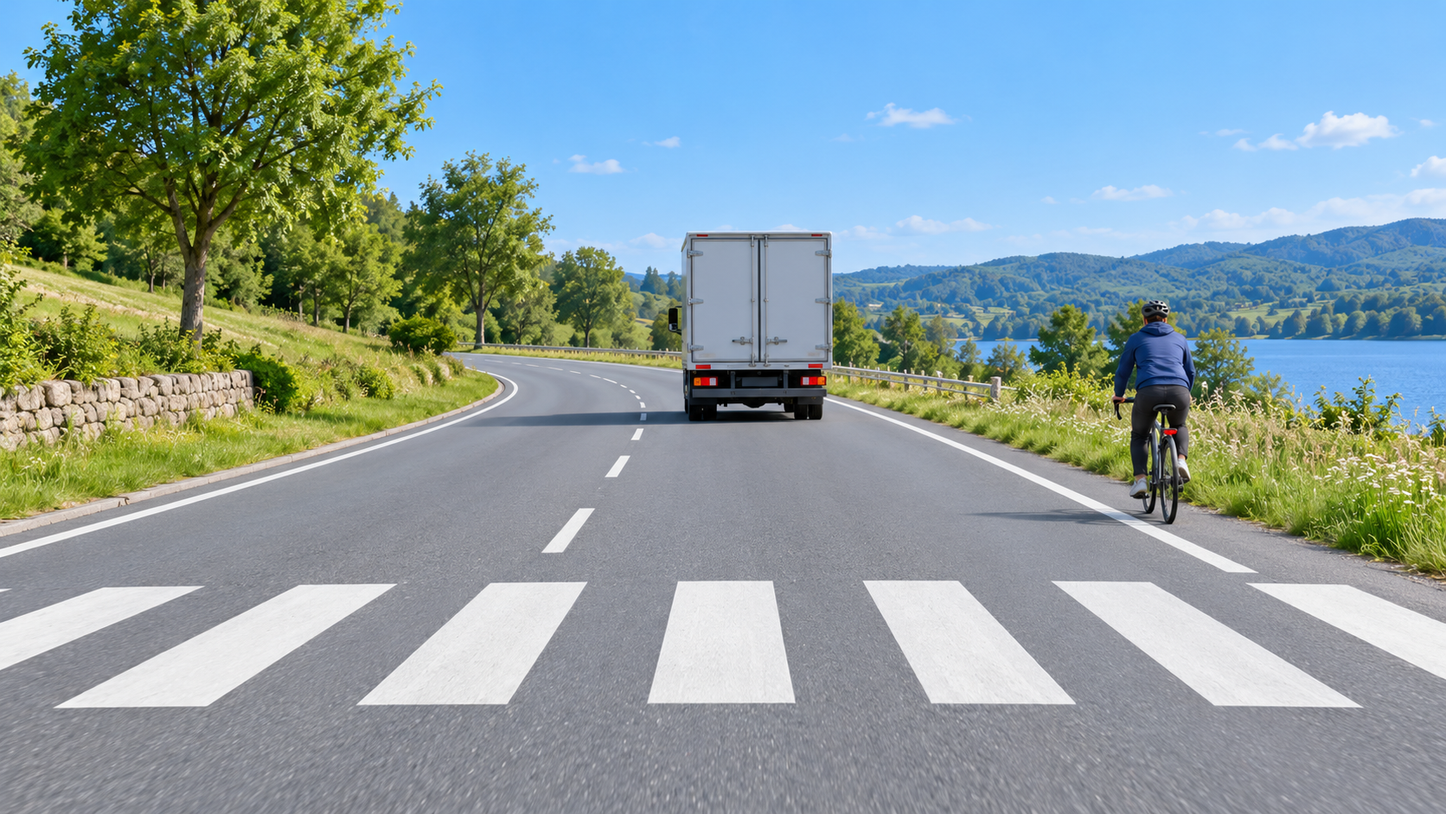bicycle: (1110, 324, 1205, 527)
person: (1110, 272, 1198, 514)
truck: (672, 228, 833, 423)
zebra_crossing: (0, 586, 1446, 724)
